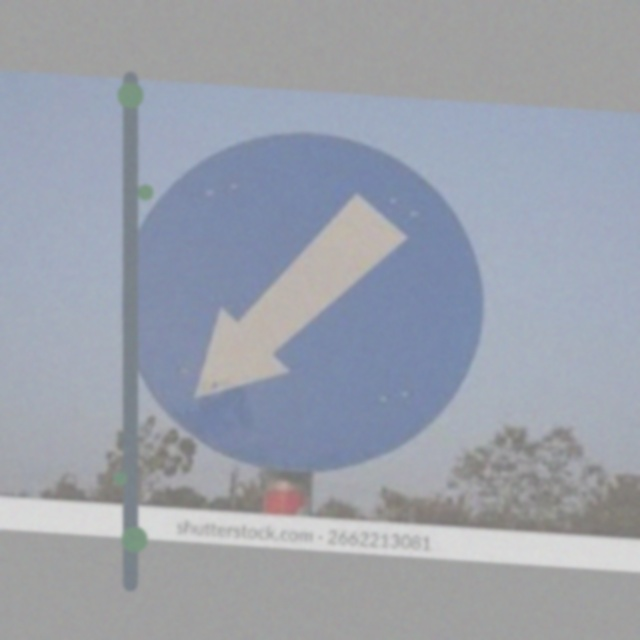Compulsory_Keep_Left: (115, 125, 484, 468)
